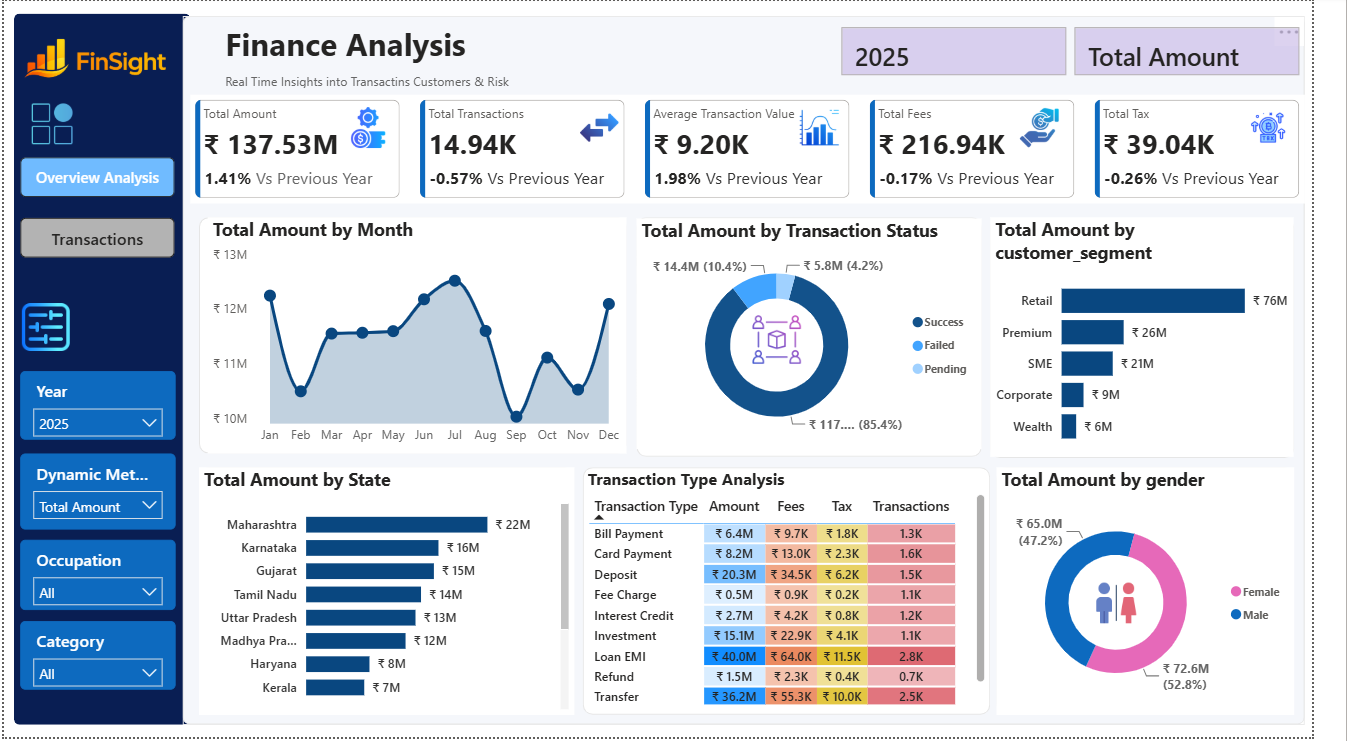

Layout of this report page (visuals, bound fields, positions):
{"tool":"powerbi","page":{"name":"Overview Analysis","canvas":[1280,720],"ordinal":0},"visuals":[{"type":"shape","box":[9.8,12.2,172.4,695.8],"z":0},{"type":"shape","box":[175.2,15.1,1097.5,693.1],"z":1000},{"type":"image","box":[9.8,20.8,162.6,70.9],"z":2000},{"type":"cardVisual","fields":{"Data":["finance_transactions.Dashboard Title"]},"box":[199.3,17.1,313,73],"z":3000},{"type":"cardVisual","fields":{"Data":["finance_transactions.Total Amount","finance_transactions.Total Transactions","finance_transactions.Average Transaction Value","finance_transactions.Total Fees","finance_transactions.Total Tax"]},"box":[182.2,91.7,1090.8,106.4],"z":4000},{"type":"slicer","fields":{"Values":["Calendar Table.Year"]},"box":[15.9,362,151.6,67.3],"z":5000},{"type":"image","box":[331.4,99,50.1,50.1],"z":6000},{"type":"image","box":[557.6,99,50.1,50.1],"z":7000},{"type":"image","box":[988,99,50.1,50.1],"z":8000},{"type":"image","box":[772.8,99,50.1,50.1],"z":9000},{"type":"image","box":[1211.8,99,50.1,50.1],"z":10000},{"type":"slicer","fields":{"Values":["Dynamic Metric.Dynamic Metric"]},"box":[15.9,442.7,151.6,74.6],"z":11000},{"type":"shape","box":[190.8,211.6,418.2,231.1],"z":12000},{"type":"areaChart","fields":{"Y":["finance_transactions.Total Amount"],"Category":["Calendar Table.Month"]},"box":[199.3,211.6,409.6,231.1],"z":13000},{"type":"cardVisual","fields":{"Data":["finance_transactions.Selected Year","finance_transactions.Selected Dynamic Measure"]},"box":[814.6,21.3,458.1,57.7],"z":14000},{"type":"shape","box":[618.7,211.7,337.7,234.4],"z":15000},{"type":"donutChart","fields":{"Y":["finance_transactions.Total Amount"],"Category":["finance_transactions.transaction_status"]},"box":[618.7,213,337.7,225.6],"z":16000},{"type":"shape","box":[965.2,213,297.4,234.4],"z":17000},{"type":"barChart","fields":{"Y":["finance_transactions.Total Amount"],"Category":["customers.customer_segment"]},"box":[964.8,211.6,297.1,234.8],"z":18000},{"type":"shape","box":[190.8,456.1,366.8,242.1],"z":19000},{"type":"barChart","fields":{"Y":["finance_transactions.Total Amount"],"Category":["customers.state"]},"box":[190.8,456.1,366.8,242.1],"z":20000},{"type":"shape","box":[566.2,456.1,398.6,242.1],"z":21000},{"type":"tableEx","title":"Transaction Type Analysis","fields":{"Values":["finance_transactions.transaction_type","finance_transactions.Total Amount","finance_transactions.Total Fees","finance_transactions.Total Tax","finance_transactions.Total Transactions"]},"box":[566.2,456.1,398.6,237.2],"z":22000},{"type":"shape","box":[970.9,456.1,291,242.1],"z":23000},{"type":"donutChart","fields":{"Y":["finance_transactions.Total Amount"],"Category":["customers.gender"]},"box":[970.9,456.1,291,242.1],"z":24000},{"type":"image","box":[723.9,300.8,63.6,61.1],"z":25000},{"type":"image","box":[1060.2,561.3,56.3,55],"z":26000},{"type":"slicer","fields":{"Values":["customers.occupation"]},"box":[15.9,527,151.6,68.5],"z":27000},{"type":"slicer","fields":{"Values":["finance_transactions.merchant_category"]},"box":[15.9,606.5,151.6,67.3],"z":28000},{"type":"pageNavigator","box":[15.9,152.9,151.6,99],"z":29000},{"type":"image","box":[15.9,95.4,62.4,50.1],"z":30000},{"type":"image","box":[3.7,287.4,74.6,63.6],"z":31000}]}

Visuals, with their boxes on the page's 1280x720 design canvas (x1, y1, x2, y2). These are canvas units, not pixel positions in the 1347x741 screenshot, which may show the page scaled, cropped or inside an application window:
shape: bbox(10, 12, 182, 708)
shape: bbox(175, 15, 1273, 708)
image: bbox(10, 21, 172, 92)
cardVisual - finance_transactions.Dashboard Title: bbox(199, 17, 512, 90)
cardVisual - finance_transactions.Total Amount x finance_transactions.Total Transactions: bbox(182, 92, 1273, 198)
slicer - Calendar Table.Year: bbox(16, 362, 168, 429)
image: bbox(331, 99, 382, 149)
image: bbox(558, 99, 608, 149)
image: bbox(988, 99, 1038, 149)
image: bbox(773, 99, 823, 149)
image: bbox(1212, 99, 1262, 149)
slicer - Dynamic Metric.Dynamic Metric: bbox(16, 443, 168, 517)
shape: bbox(191, 212, 609, 443)
areaChart - finance_transactions.Total Amount x Calendar Table.Month: bbox(199, 212, 609, 443)
cardVisual - finance_transactions.Selected Year x finance_transactions.Selected Dynamic Measure: bbox(815, 21, 1273, 79)
shape: bbox(619, 212, 956, 446)
donutChart - finance_transactions.Total Amount x finance_transactions.transaction_status: bbox(619, 213, 956, 439)
shape: bbox(965, 213, 1263, 447)
barChart - finance_transactions.Total Amount x customers.customer_segment: bbox(965, 212, 1262, 446)
shape: bbox(191, 456, 558, 698)
barChart - finance_transactions.Total Amount x customers.state: bbox(191, 456, 558, 698)
shape: bbox(566, 456, 965, 698)
"Transaction Type Analysis" tableEx: bbox(566, 456, 965, 693)
shape: bbox(971, 456, 1262, 698)
donutChart - finance_transactions.Total Amount x customers.gender: bbox(971, 456, 1262, 698)
image: bbox(724, 301, 788, 362)
image: bbox(1060, 561, 1116, 616)
slicer - customers.occupation: bbox(16, 527, 168, 596)
slicer - finance_transactions.merchant_category: bbox(16, 606, 168, 674)
pageNavigator: bbox(16, 153, 168, 252)
image: bbox(16, 95, 78, 146)
image: bbox(4, 287, 78, 351)
